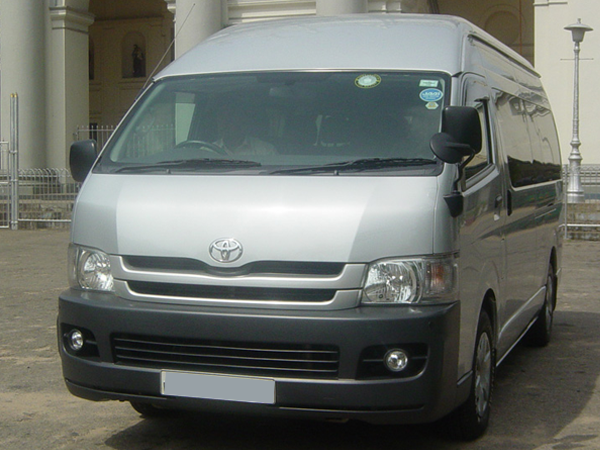van: (56, 11, 567, 441)
